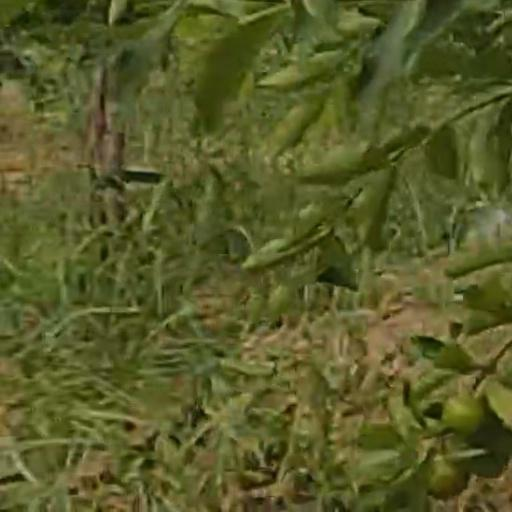acerola_verde: (442, 394, 482, 433)
